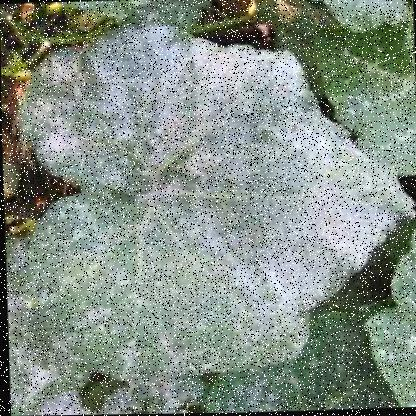PowderyMildew: (46, 214, 267, 364), (161, 104, 340, 277), (59, 57, 208, 179)
